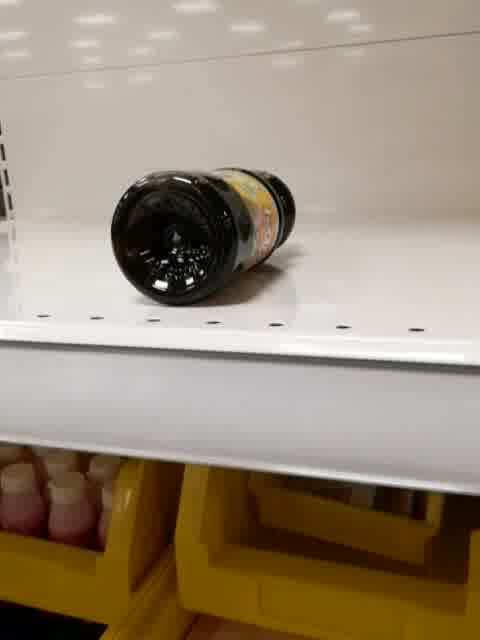cookingoil: (106, 164, 300, 311)
